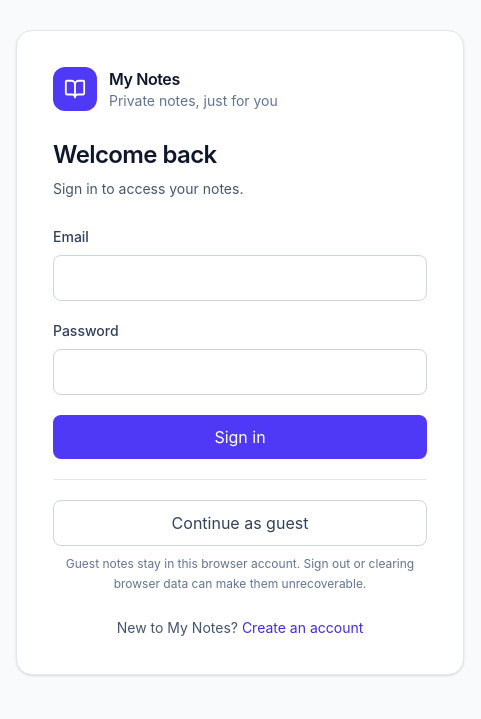
AuthScreen › shows Supabase authentication errors
Type "user@example.com" into the field labelled "Email".
click(240, 278); type("user@example.com")  # box [53,254,427,300]
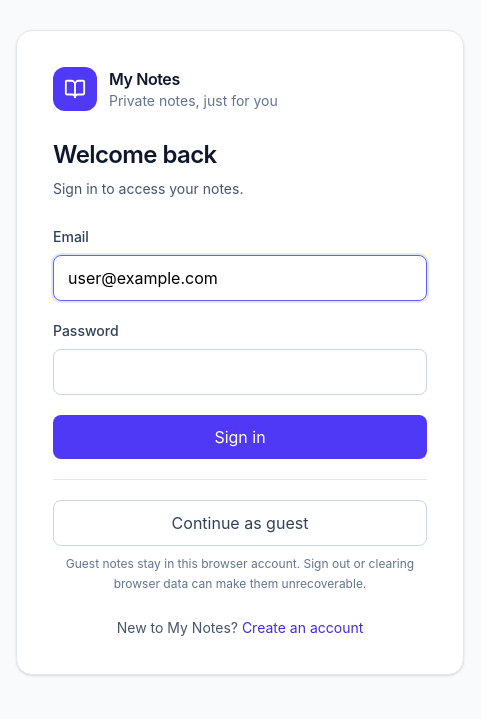
Type "wrong-password" into the password field labelled "Password".
click(240, 372); type("wrong-password")  # box [53,348,427,394]
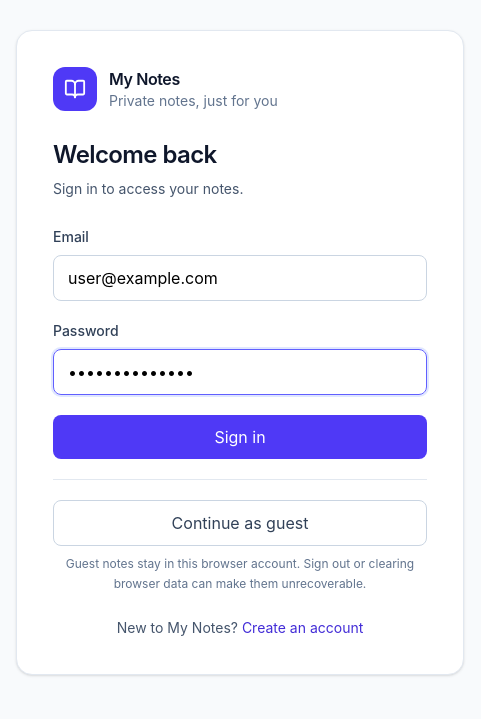
Click the button "Sign in".
click(240, 436)  # box [53,414,427,458]
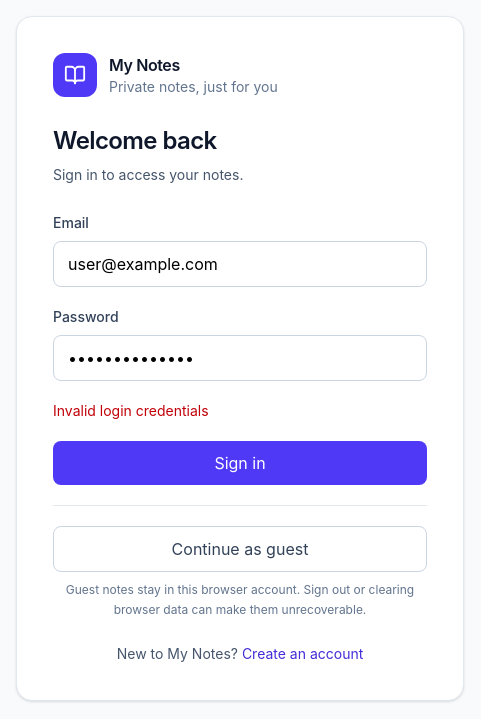
Now the message reads "Invalid login credentials", box [53,402,209,419]
